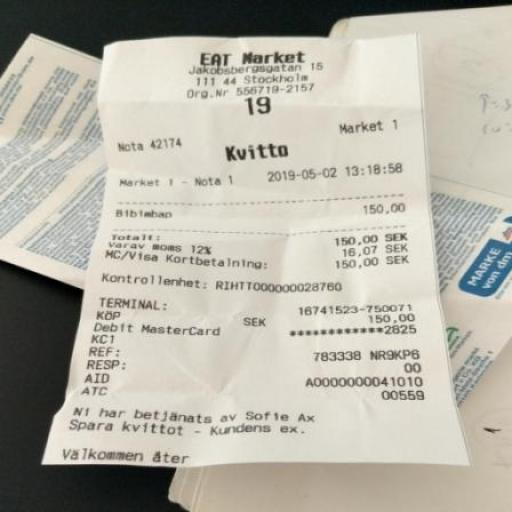paper: (40, 16, 482, 483)
